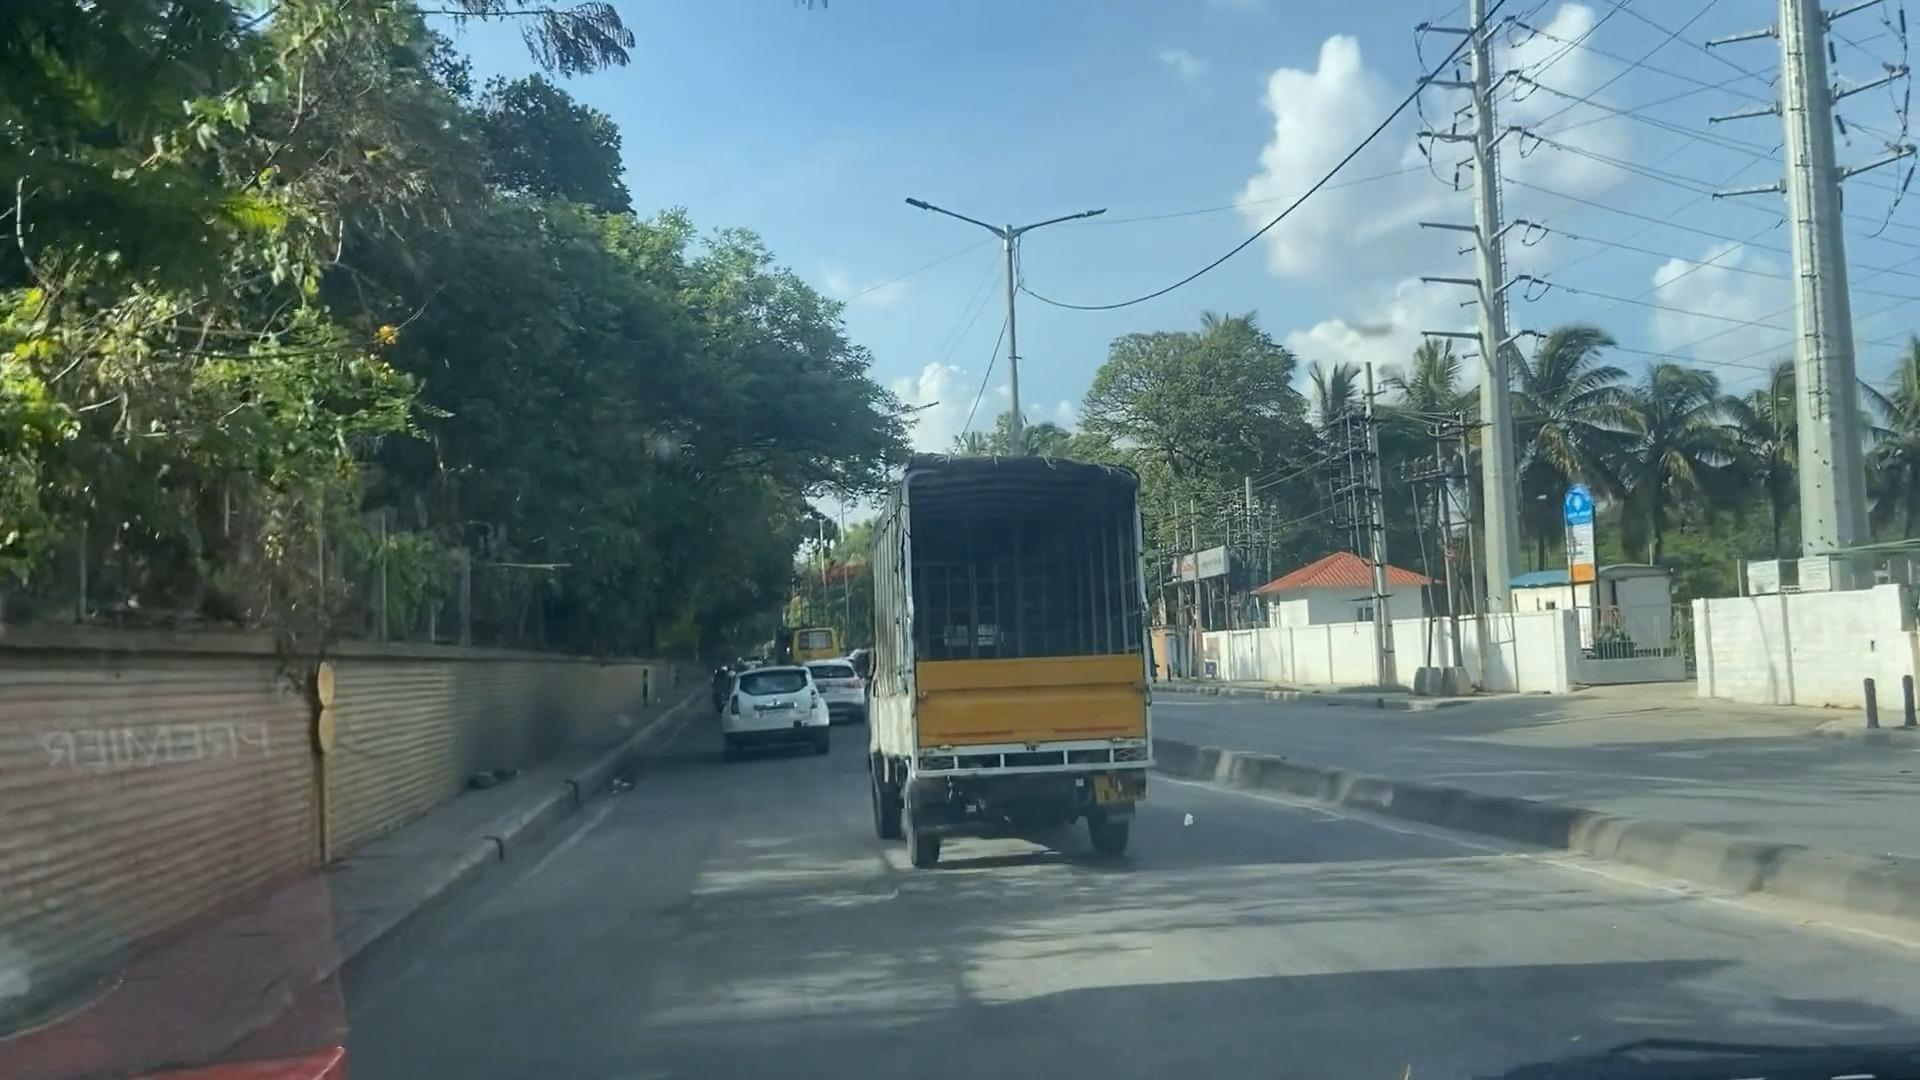HMV: (866, 440, 1131, 836)
LMV: (731, 670, 825, 741)
